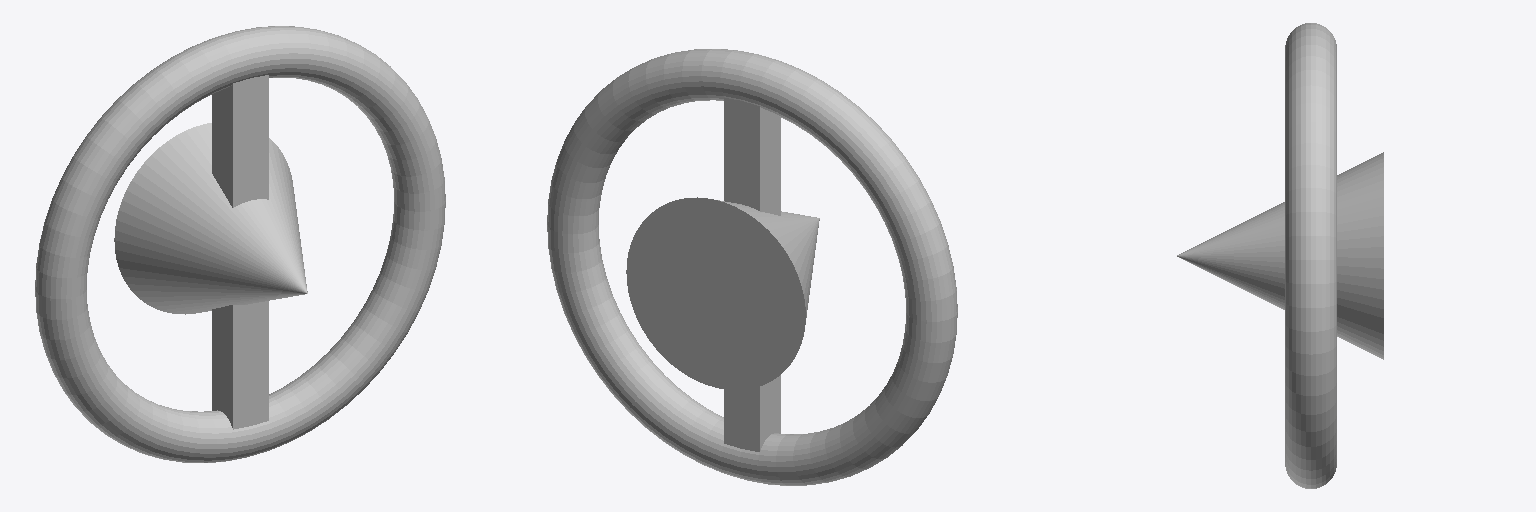
File: drone.obj
3 views of the same model, side by side, from view 1: azimuth 30°, elevation 25°; view 2: azimuth 150°, elevation 25°; view 3: azimuth 270°, elevation 25° (orthographic).
Parts seen in each view (by area): view 1: Torus, Cone, Cube; view 2: Torus, Cone, Cube; view 3: Torus, Cone.
Boxes of the visible parts, x1=… form: Torus: x1=35, y1=26, x2=445, y2=462; Cone: x1=114, y1=123, x2=307, y2=314; Cube: x1=212, y1=75, x2=268, y2=429; Torus: x1=547, y1=49, x2=957, y2=485; Cone: x1=626, y1=197, x2=819, y2=389; Cube: x1=724, y1=98, x2=780, y2=451; Torus: x1=1285, y1=23, x2=1336, y2=488; Cone: x1=1177, y1=152, x2=1383, y2=359.
Size of the model in its own units: 4.5 by 4.5 by 2.